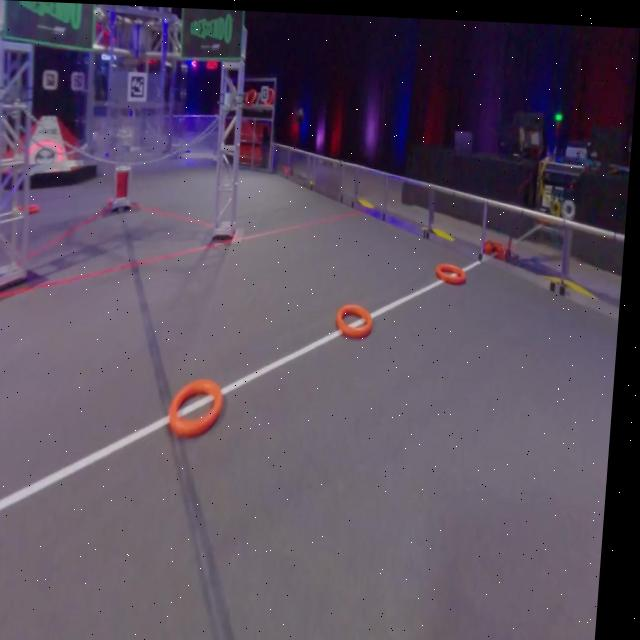note: (174, 375, 231, 437), (339, 298, 379, 337), (440, 259, 471, 281), (21, 202, 43, 216), (264, 85, 277, 103), (247, 87, 258, 103)
